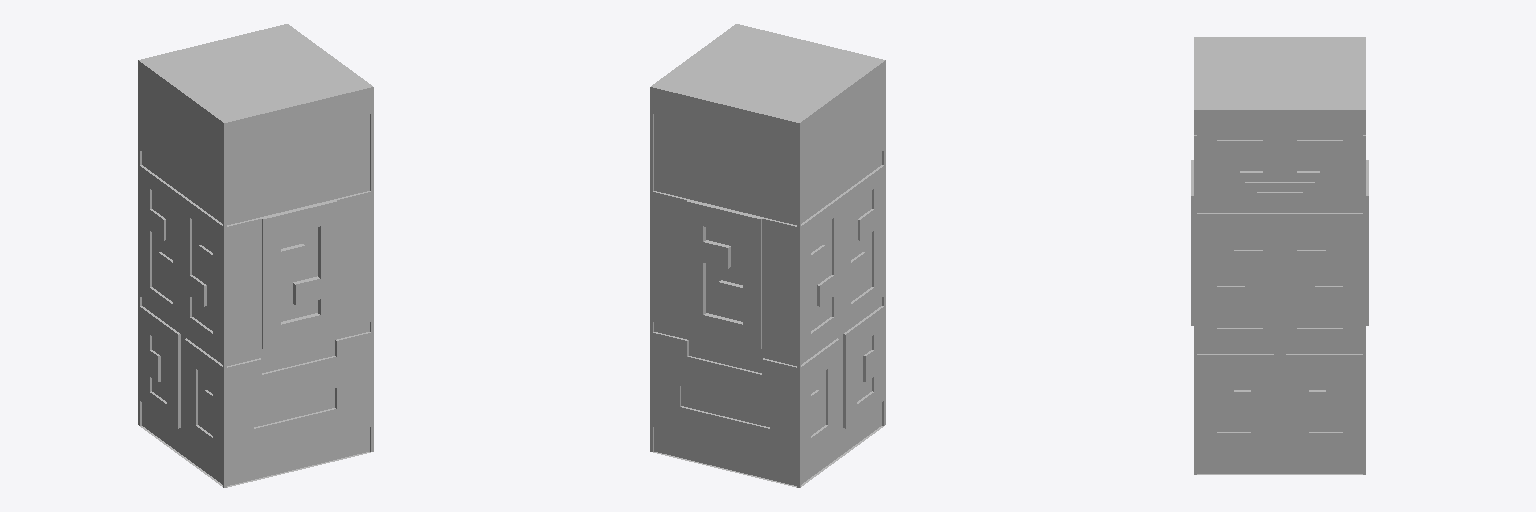
Rendered from MeepleTwoVisionLib.obj.
The picture shows the model from 3 angles: view 1: azimuth 30°, elevation 25°; view 2: azimuth 150°, elevation 25°; view 3: azimuth 270°, elevation 25°; orthographic projection.
Visible parts, largest first — view 1: Cube; view 2: Cube; view 3: Cube.
Part boxes in pixels (x1,y1,x2,y2): Cube: (138, 24, 373, 487); Cube: (650, 24, 885, 487); Cube: (1191, 37, 1368, 474).
Bounding box in the file's own units: 3 × 7 × 3.1.